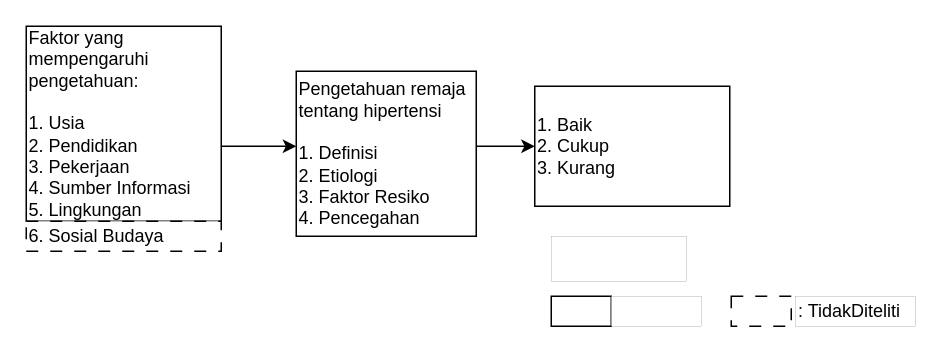
Some shapes in this 942 by 353 pixel diagram are drawn without their labels. The box of each missing label's shape, as (x1, y1, x2, y2) in pixels:
: Diteliti: (610, 296, 700, 326)
Keterangan:: (550, 236, 686, 280)
